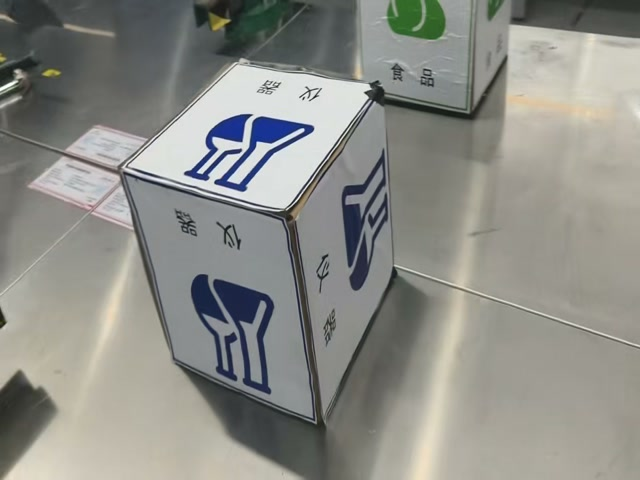Cube_ins: (122, 63, 383, 217)
